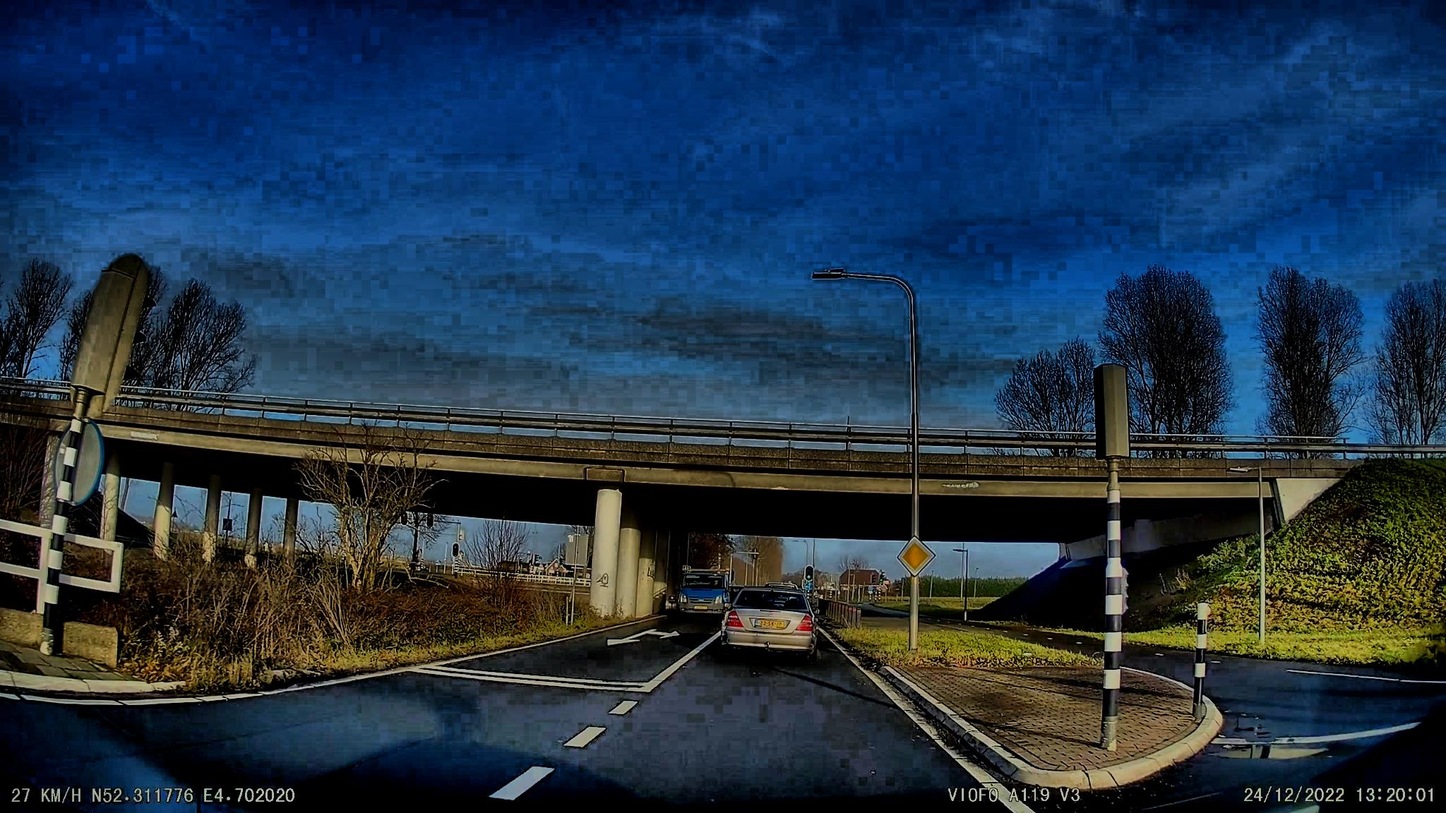Roads: (0, 626, 1446, 813)
